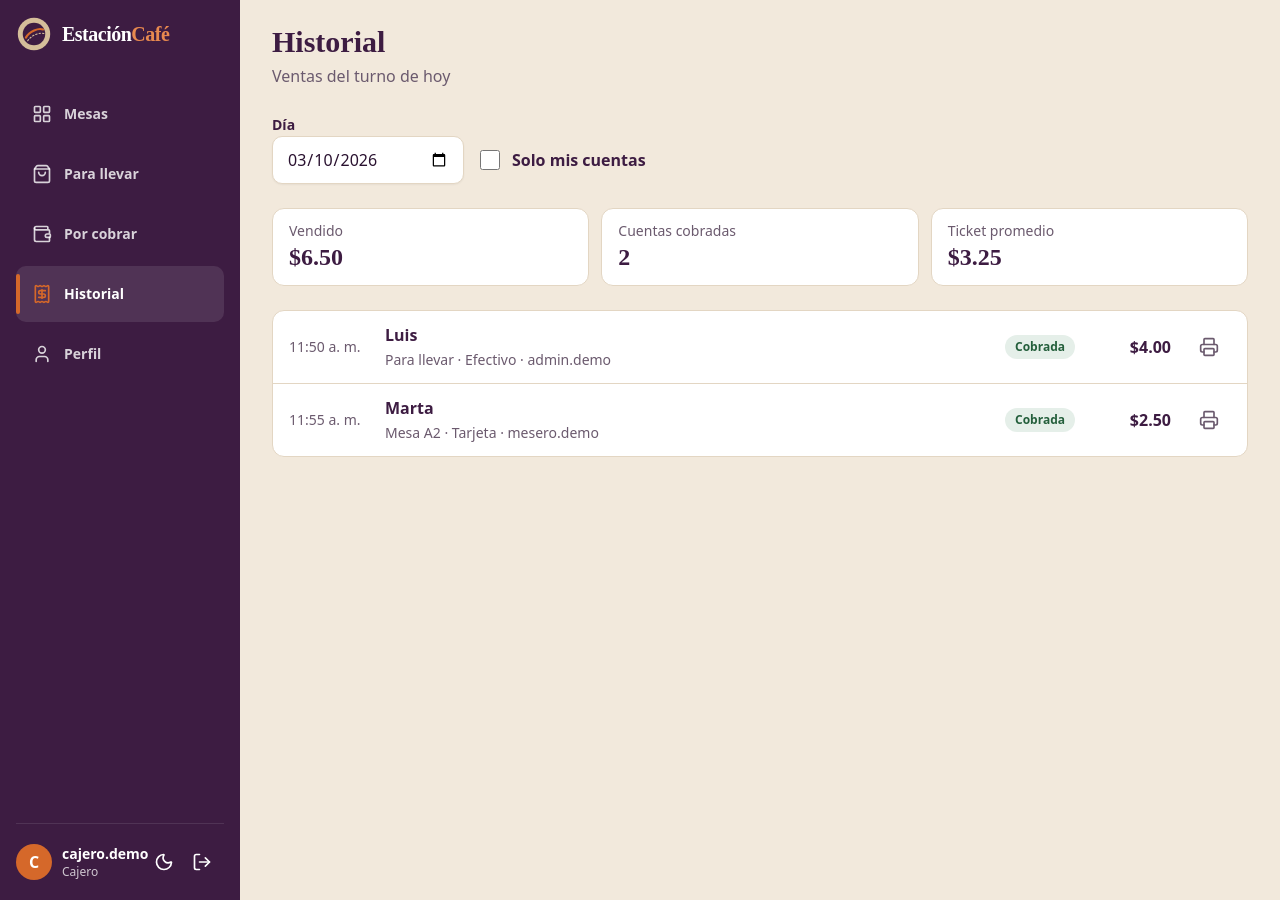
Para llevar, cobro, ticket e historial › el cajero ve todo el historial y puede filtrar las suyas
Expected: the text "Luis" is shown, [385,324,417,346]
Expected: the text "Marta" is shown, [385,397,434,419]
Click the checkbox labelled "Solo mis cuentas".
click(490, 160)  # box [480,150,500,170]
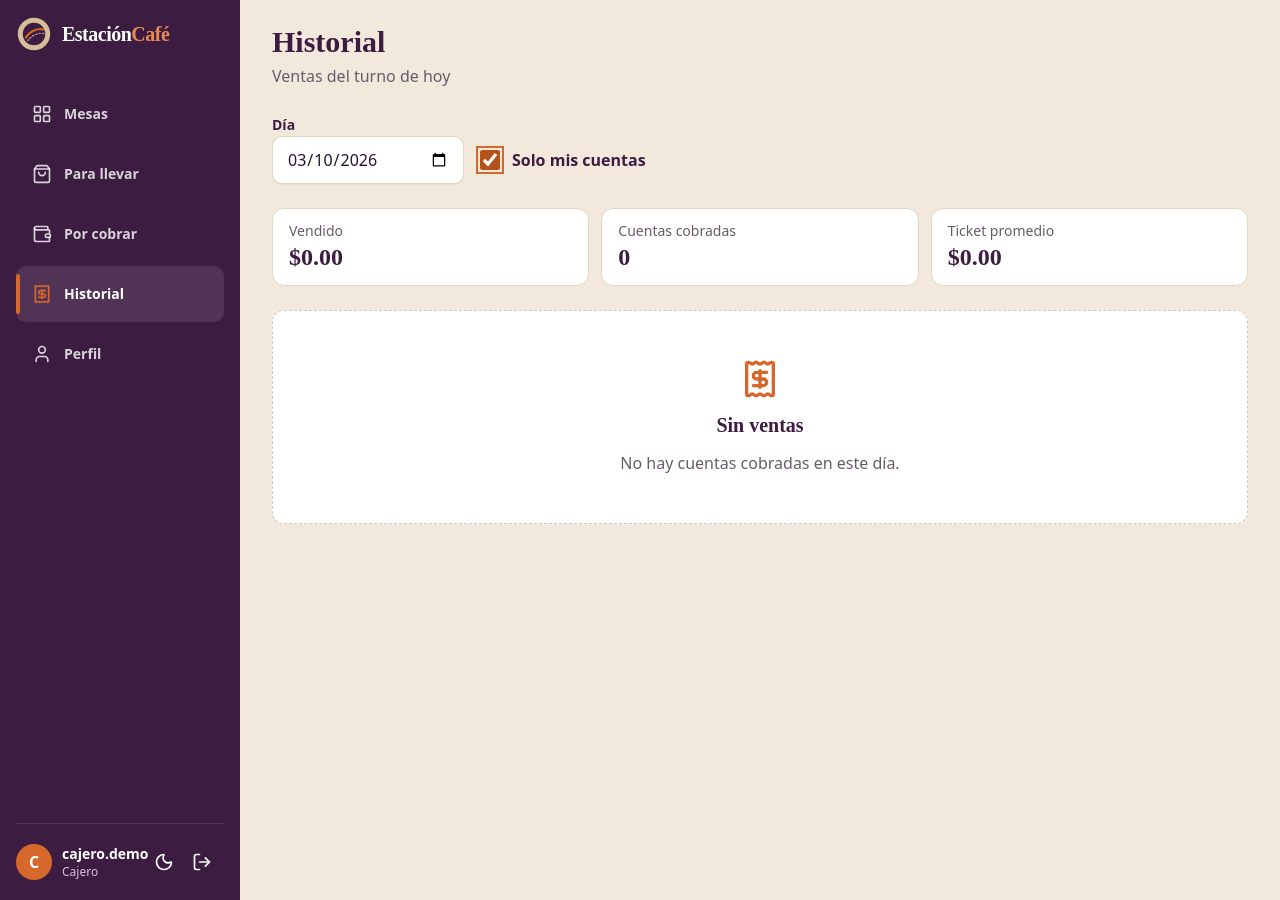
Expected: the text "Sin ventas" is shown, [716,411,804,439]
